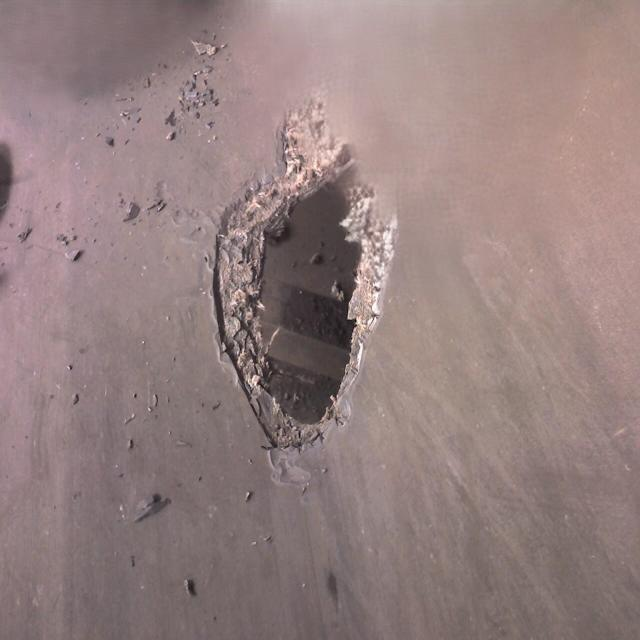Hole: (196, 90, 412, 471)
